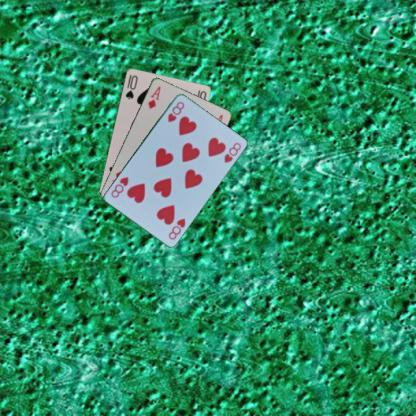10s: (122, 72, 138, 100)
8h: (166, 99, 186, 123), (166, 216, 186, 240)
Ad: (145, 83, 162, 110)
